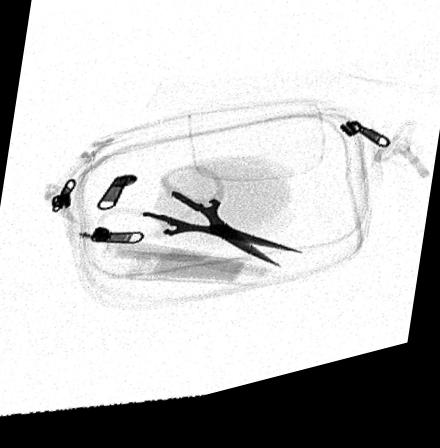Scissors: (89, 171, 313, 282)
